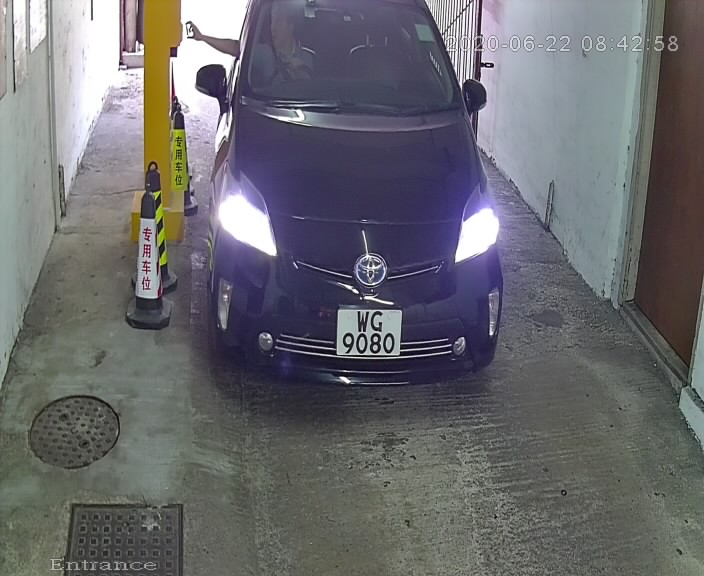privatecar: (175, 1, 535, 418)
